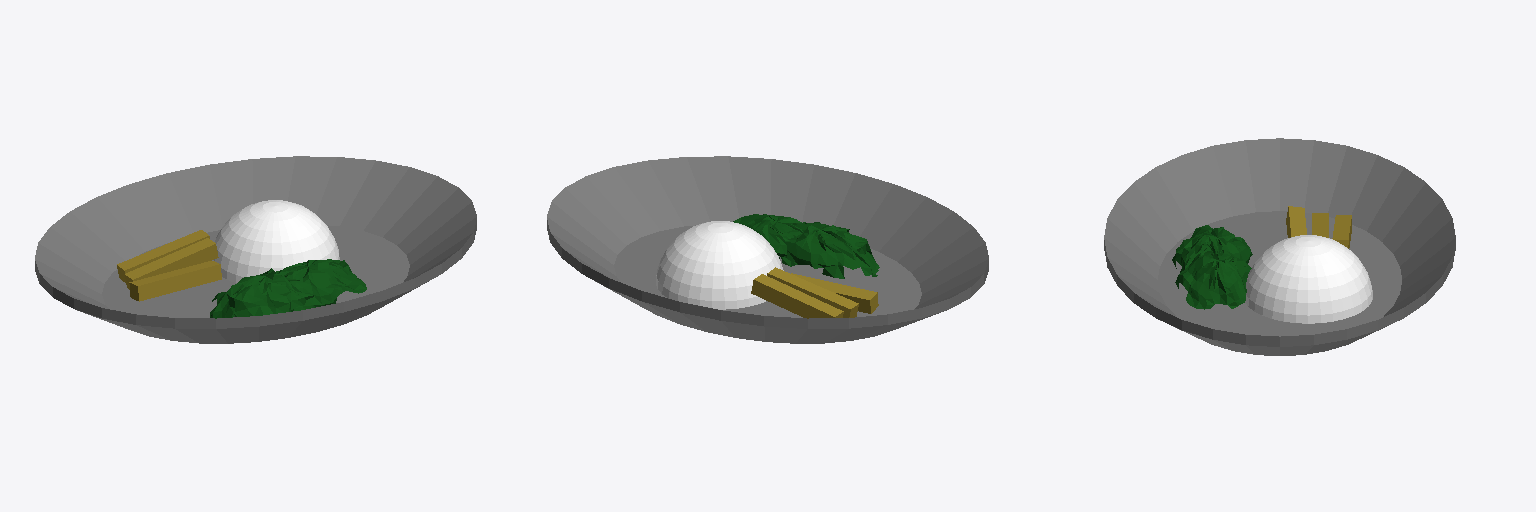
Rendered from rice1_meat1_veg2.obj.
The picture shows the model from 3 angles: view 1: azimuth 30°, elevation 25°; view 2: azimuth 150°, elevation 25°; view 3: azimuth 270°, elevation 25°; orthographic projection.
Parts seen in each view (by area): view 1: Cylinder, Sphere, Sphere.002, Sphere.001, Cube.002_Cube.003, Cube.001_Cube.002, Cube_Cube.001; view 2: Cylinder, Sphere, Sphere.002, Cube_Cube.001, Sphere.001, Cube.001_Cube.002, Cube.002_Cube.003; view 3: Cylinder, Sphere, Sphere.001, Sphere.002, Cube.002_Cube.003.
Boxes of the visible parts, x1,y1,x2,y2 form: Cylinder: [35, 156, 476, 343]; Sphere: [212, 200, 339, 282]; Sphere.002: [210, 268, 313, 318]; Sphere.001: [278, 259, 366, 311]; Cube.002_Cube.003: [129, 261, 221, 301]; Cube.001_Cube.002: [125, 238, 218, 289]; Cube_Cube.001: [117, 230, 209, 282]; Cylinder: [547, 156, 988, 343]; Sphere: [656, 221, 783, 309]; Sphere.002: [779, 222, 879, 278]; Cube_Cube.001: [751, 274, 843, 318]; Sphere.001: [733, 214, 802, 266]; Cube.001_Cube.002: [767, 267, 858, 317]; Cube.002_Cube.003: [791, 273, 878, 313]; Cylinder: [1104, 138, 1455, 355]; Sphere: [1245, 235, 1372, 323]; Sphere.001: [1175, 249, 1251, 309]; Sphere.002: [1172, 225, 1252, 269]; Cube.002_Cube.003: [1286, 206, 1306, 237].
Size of the model in its own units: 5.75 by 0.85 by 4.31.